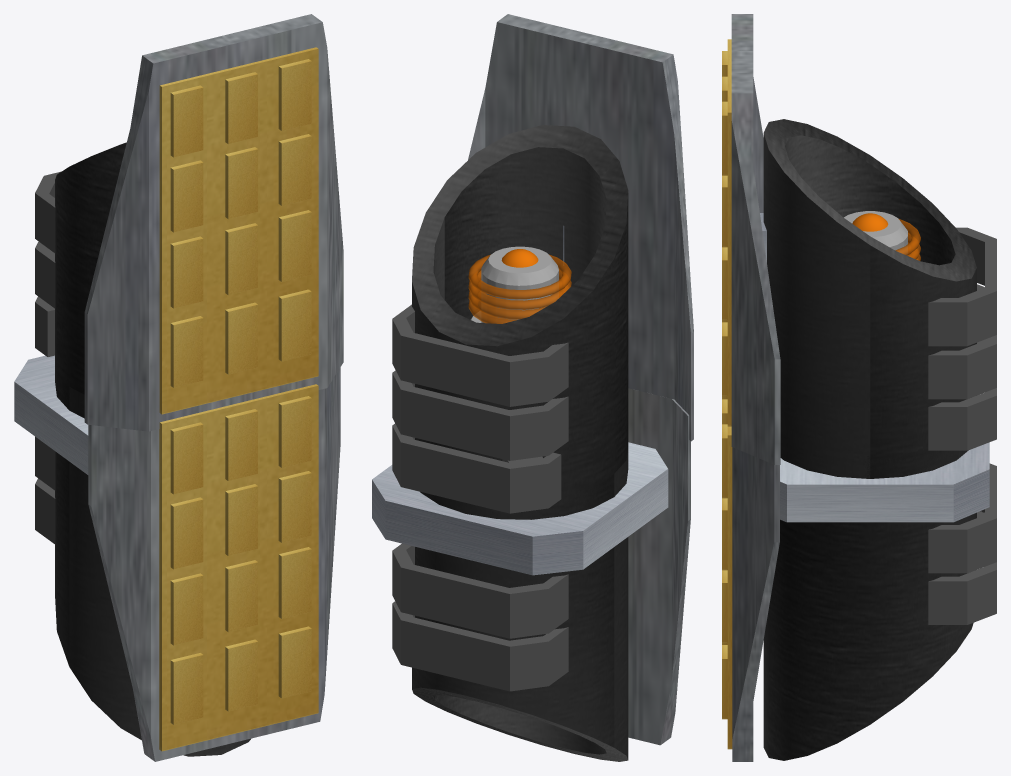
File: BossGenerator 1.fbx
3 renders of one model, left to right at view 1: azimuth 30°, elevation 25°; view 2: azimuth 150°, elevation 25°; view 3: azimuth 270°, elevation 25°, orthographic. The views are drawn at different scales.
Visible parts, largest first — view 1: group3; view 2: group3; view 3: group3.
Boxes of the visible parts, x1,y1,x2,y2 form: group3: (14,14,343,761); group3: (372,14,693,761); group3: (722,14,996,761).
Bounding box in the file's own units: 6.54 × 17.68 × 6.35.
